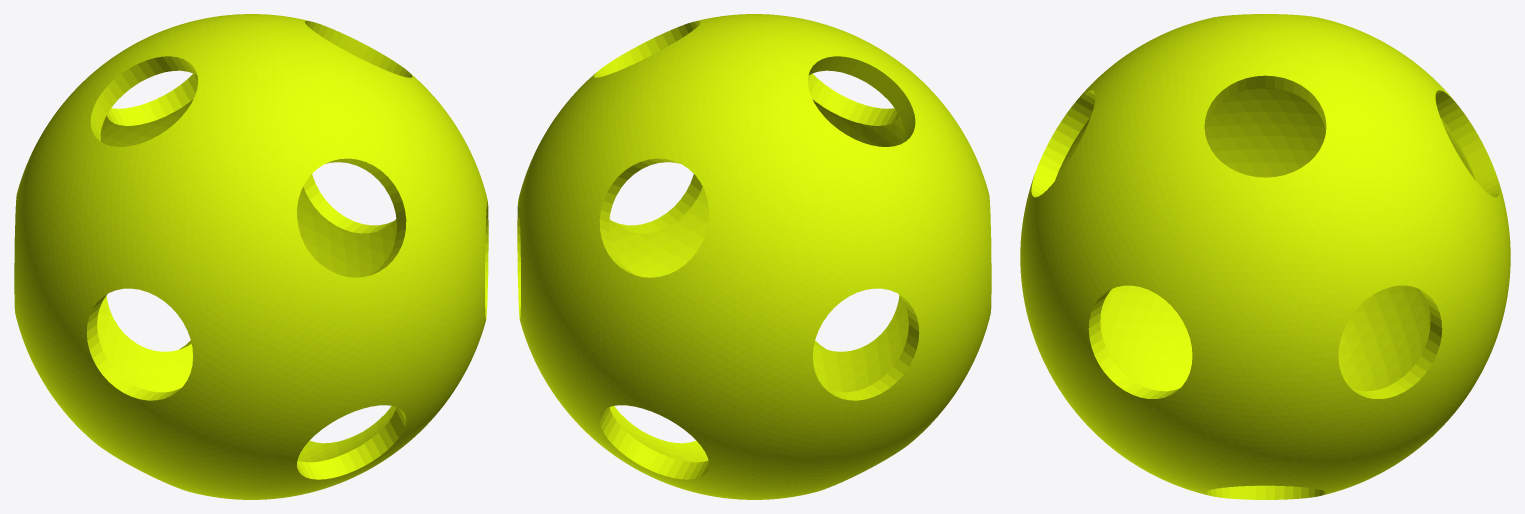
Rendered from pickleball_ball.glb.
The picture shows the model from 3 angles, left to right: view 1: azimuth 30°, elevation 25°; view 2: azimuth 150°, elevation 25°; view 3: azimuth 270°, elevation 25°; orthographic projection.
Visible parts, largest first — view 1: Ball_Mesh; view 2: Ball_Mesh; view 3: Ball_Mesh.
Part boxes in pixels (left/top/right/bottom): Ball_Mesh: left=14, top=14, right=488, bottom=499; Ball_Mesh: left=517, top=14, right=991, bottom=499; Ball_Mesh: left=1020, top=14, right=1510, bottom=499.
Bounding box in the file's own units: 0.074 × 0.074 × 0.074.
